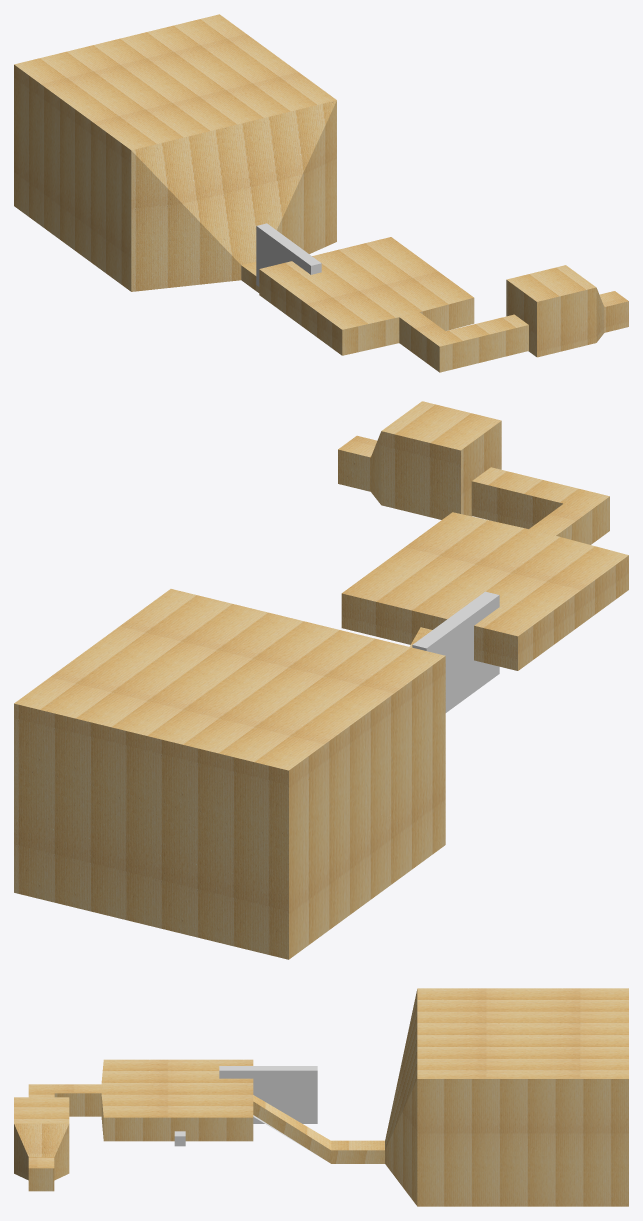
File: NeueWelt.glb
The picture shows the model from 3 angles, top to bottom: view 1: azimuth 30°, elevation 25°; view 2: azimuth 150°, elevation 25°; view 3: azimuth 270°, elevation 25°; orthographic projection. The views are drawn at different scales.
Visible parts, largest first — view 1: SpawnFloor.001, Würfel.002; view 2: SpawnFloor.001, Würfel.002; view 3: SpawnFloor.001, Würfel.002.
Part boxes in pixels (box(x1,y1,x2,y2)): SpawnFloor.001: box(14, 14, 628, 372); Würfel.002: box(256, 223, 321, 286); SpawnFloor.001: box(14, 401, 628, 959); Würfel.002: box(412, 591, 499, 712); SpawnFloor.001: box(14, 988, 628, 1206); Würfel.002: box(219, 1066, 317, 1123).
Bounding box in the file's own units: 53.03 × 25.44 × 111.
2 materials, 2 textured.
